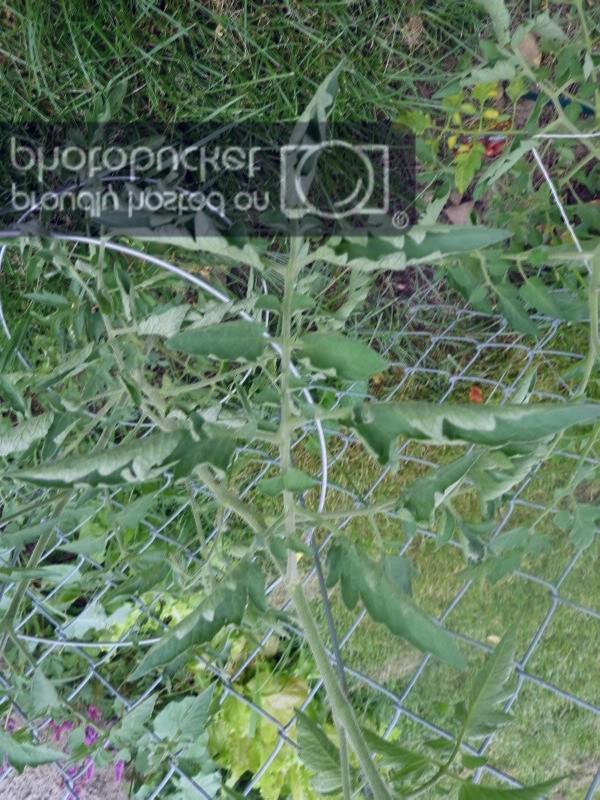Tomato mold leaf: (323, 541, 473, 671), (345, 389, 589, 466), (20, 424, 255, 486), (288, 318, 393, 383), (163, 313, 269, 362)
